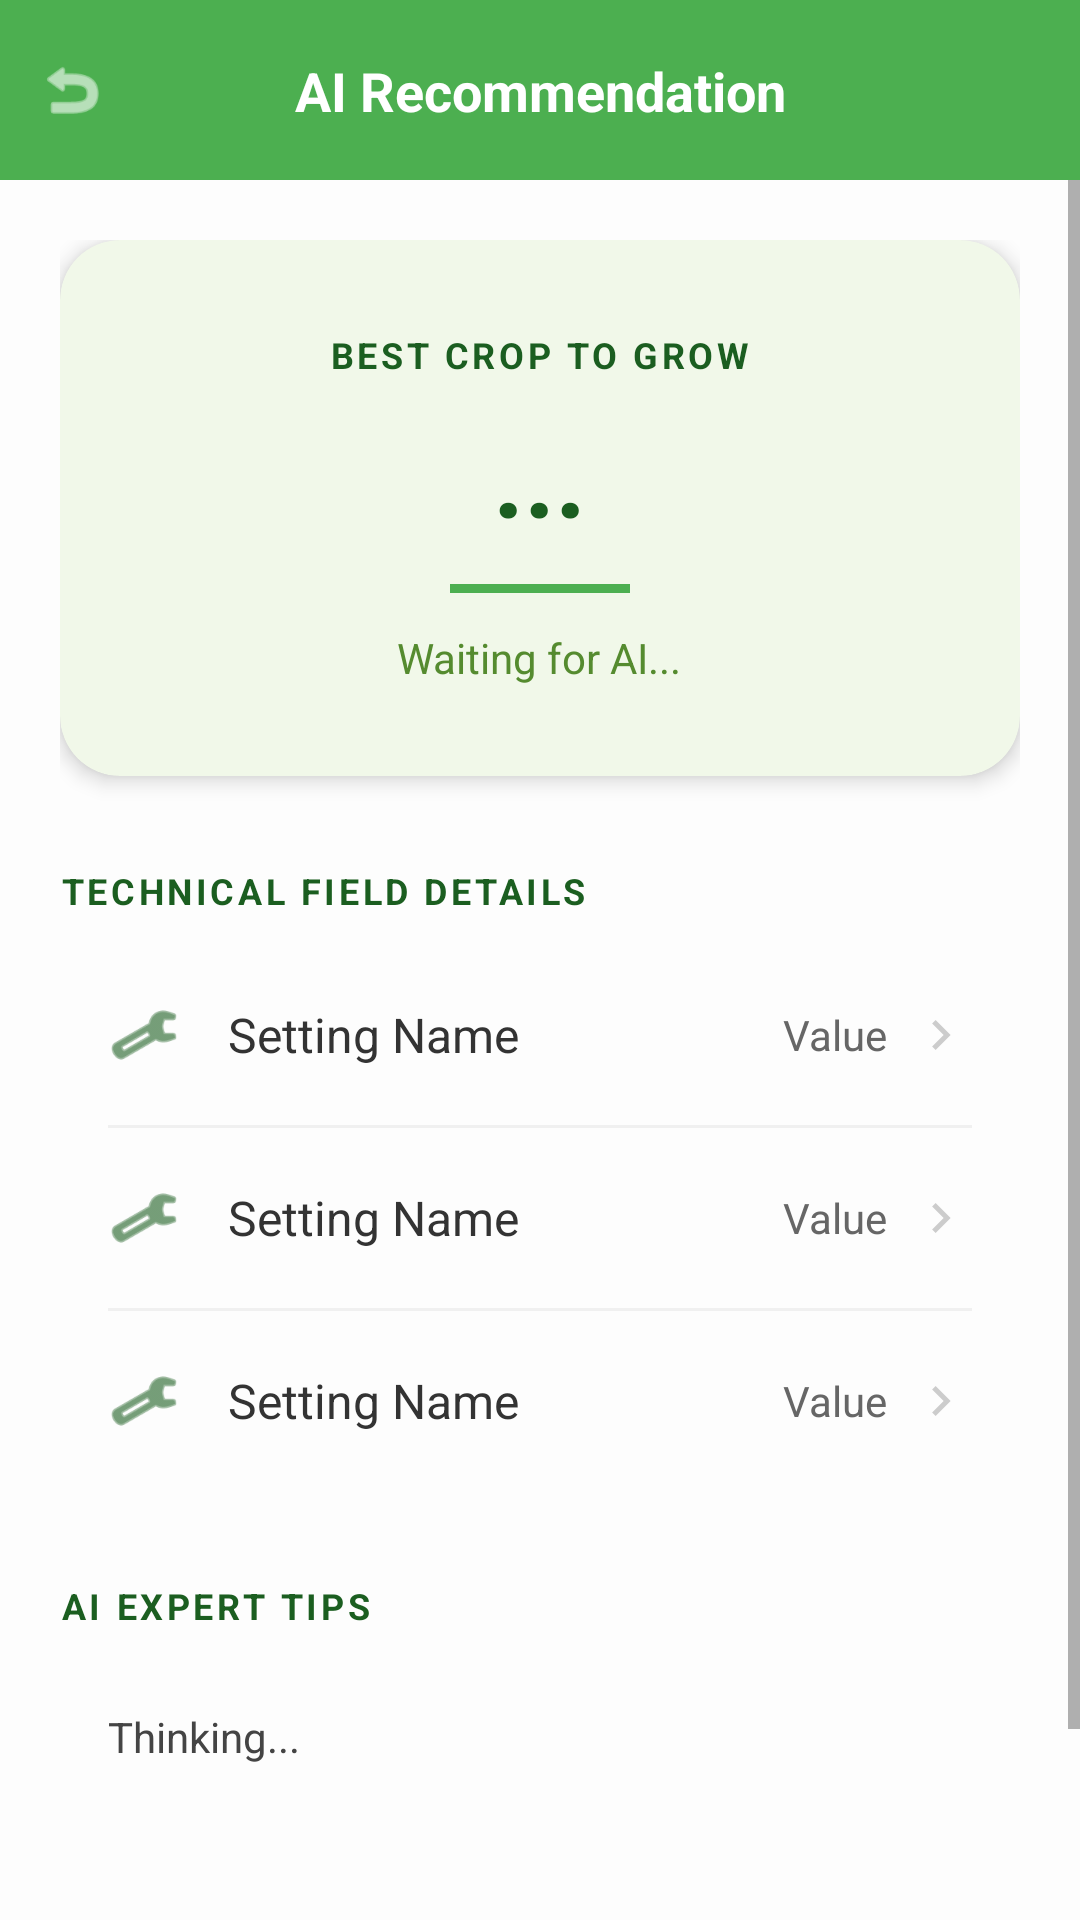

Locate icon controls on the screen. Image size 1080px x 1920px, boxes as bbox=(x1, y1, x2, y2).
keyboard arrow right: bbox=(932, 1020, 950, 1050), bbox=(932, 1203, 950, 1233), bbox=(932, 1386, 950, 1416)
manage: bbox=(111, 1010, 176, 1060), bbox=(111, 1193, 176, 1243), bbox=(111, 1376, 176, 1426)
revert: bbox=(47, 67, 99, 114)
